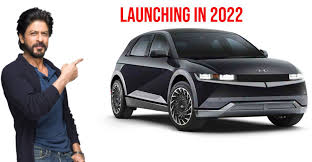Honda Ioniq: (107, 24, 310, 138)
